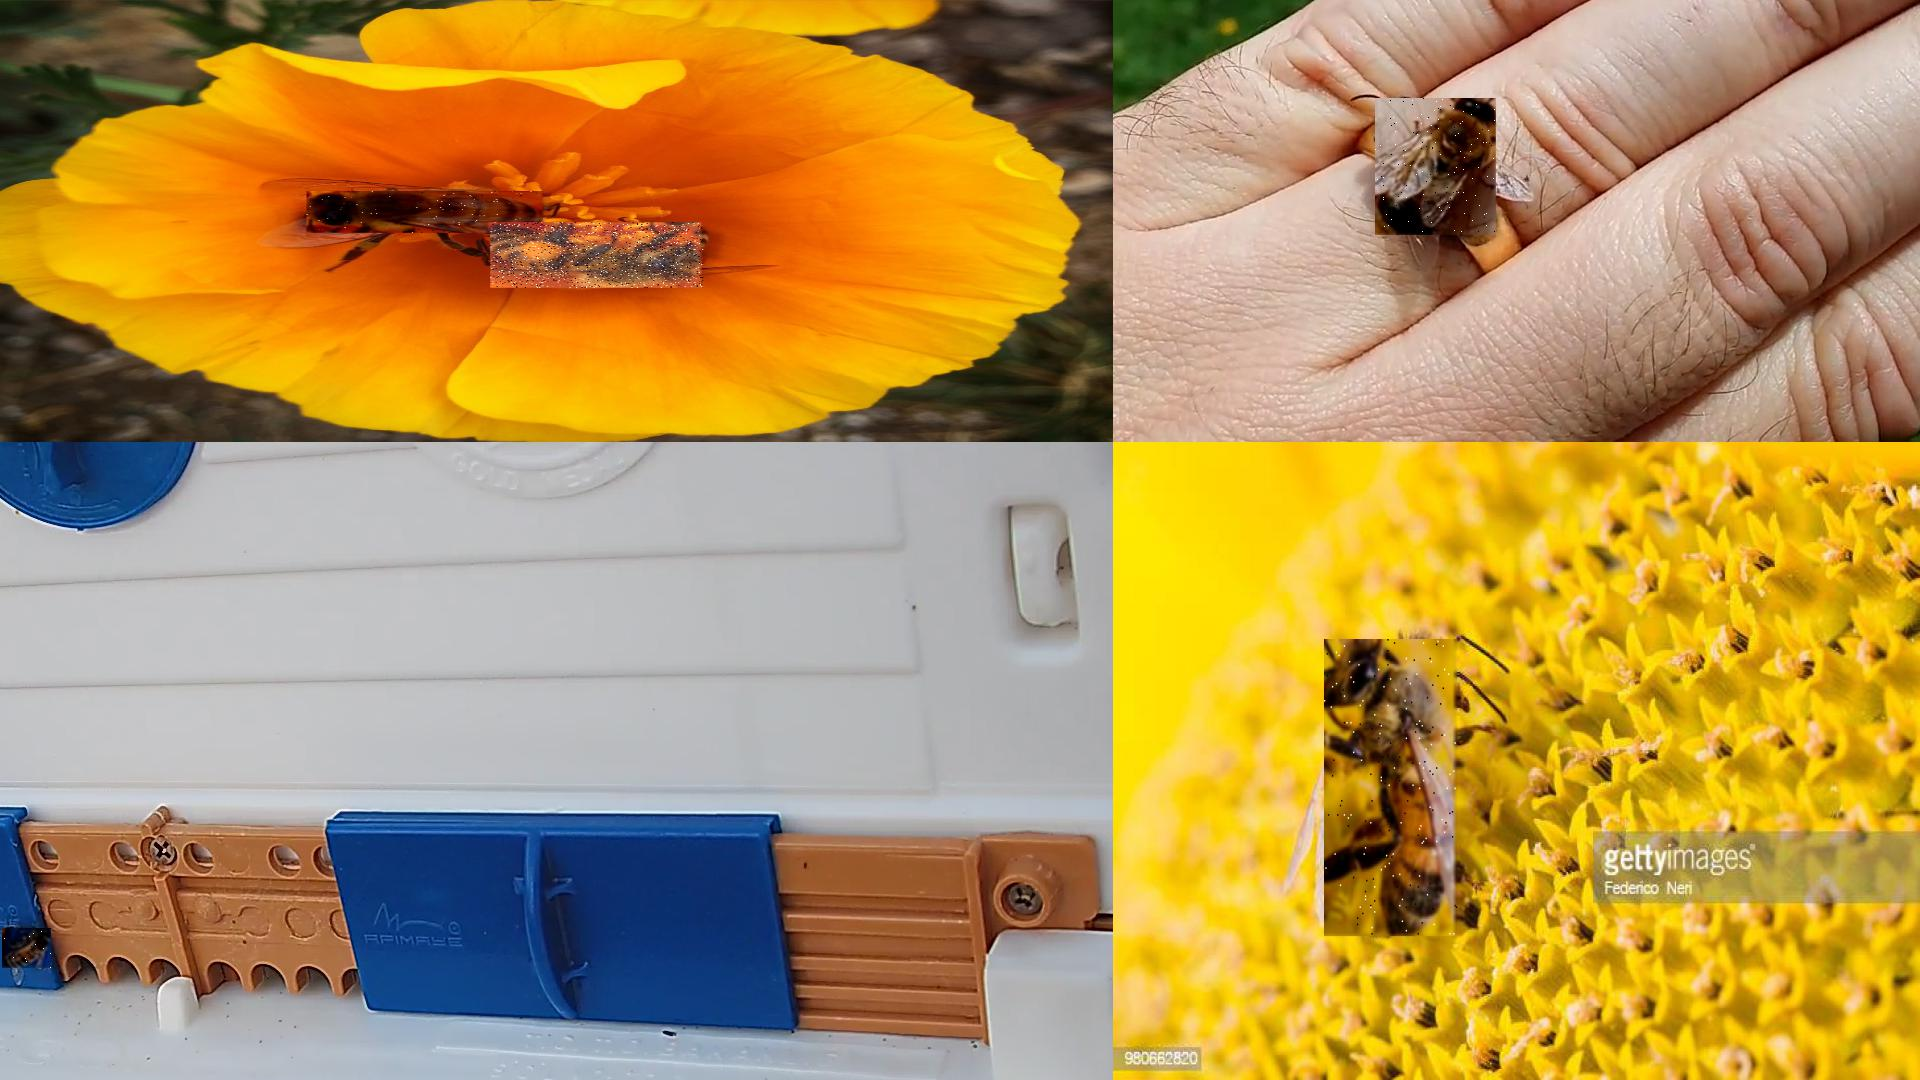bee: (1325, 640, 1461, 938), (307, 191, 547, 233), (3, 928, 53, 969)
drone: (1375, 98, 1497, 236)
pollenbee: (492, 223, 705, 287)
